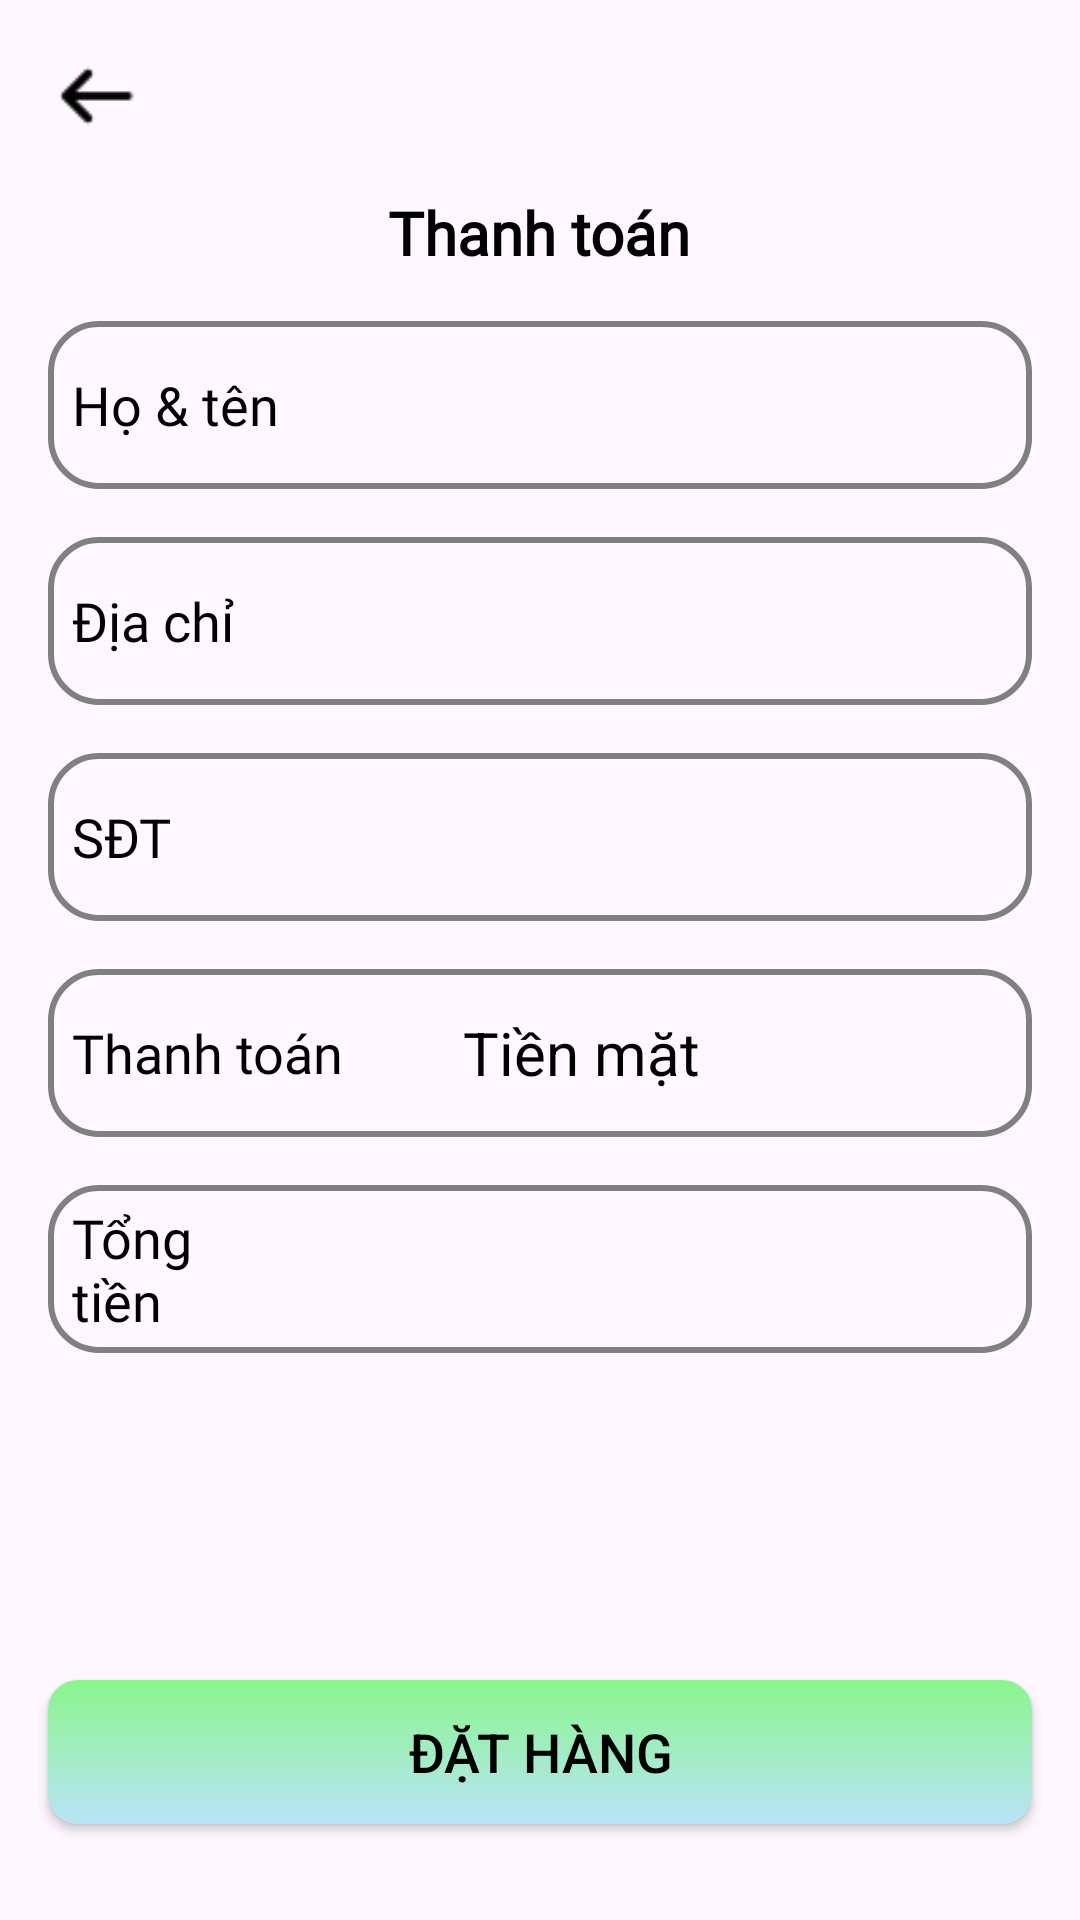

Where icons sit on this 1080×1920 app screen, as bbox=(x1, y1, x2, y2):
arrow back: bbox=(60, 68, 134, 124)
